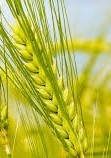Healthy Wheat: (12, 23, 87, 151)
